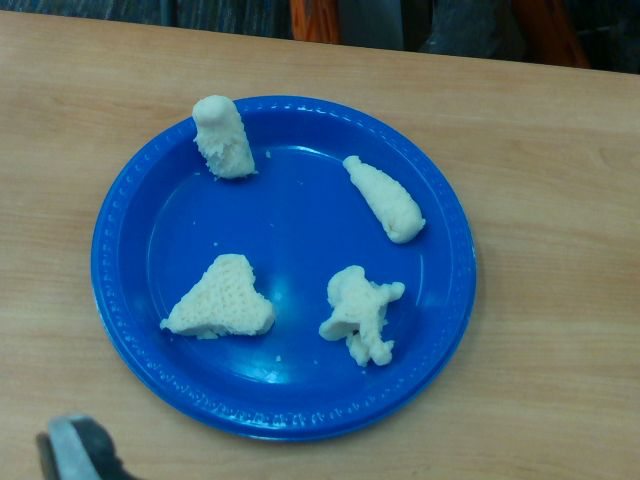mashed_potato: (160, 254, 274, 338), (320, 265, 405, 368), (343, 156, 426, 245), (193, 96, 256, 179)
